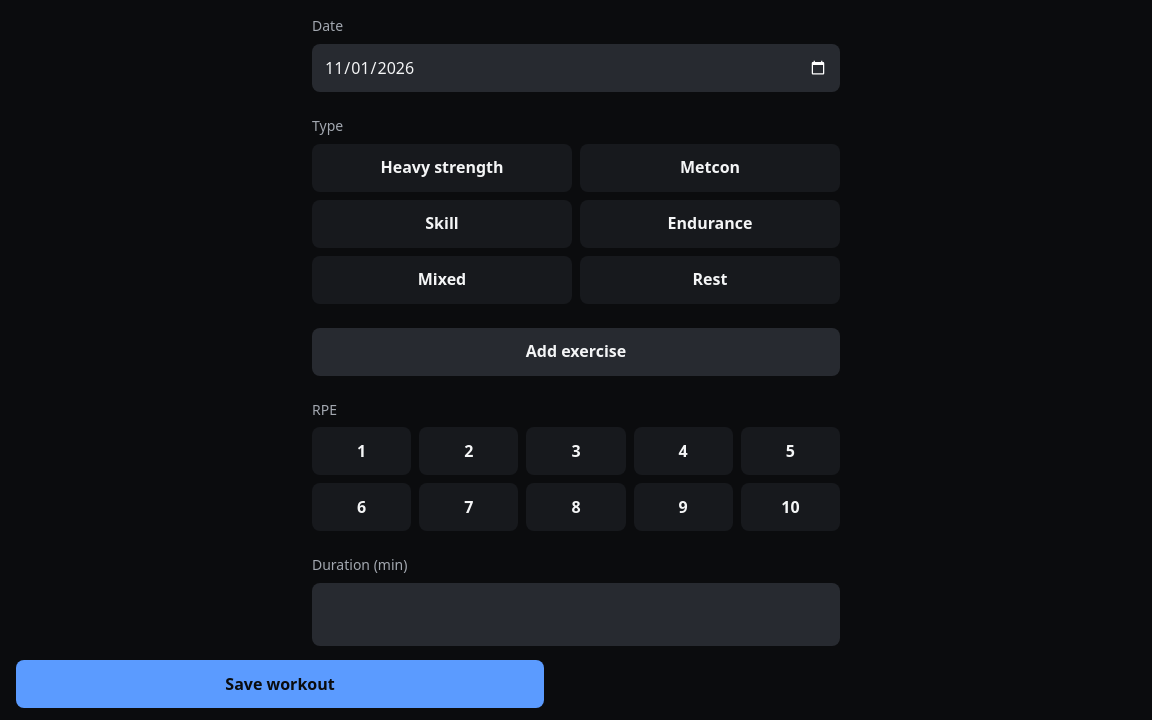
Test case: logging a workout › clears RPE when the selected value is pressed again
Expected: the button "Add exercise" is shown, [312,328,840,376]
Click the button named "RPE 8" at (576, 507), box [526,483,626,531]
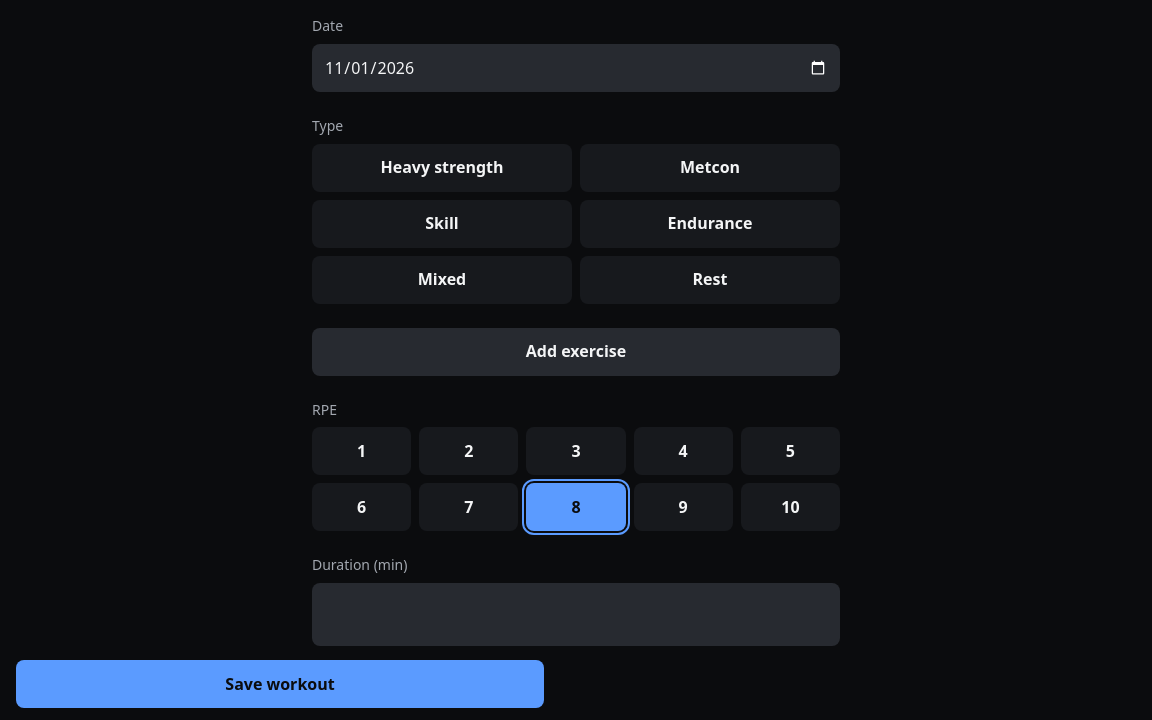
Expected: the button named "RPE 8" is pressed
Click the button named "RPE 8" at (576, 507), box [526,483,626,531]
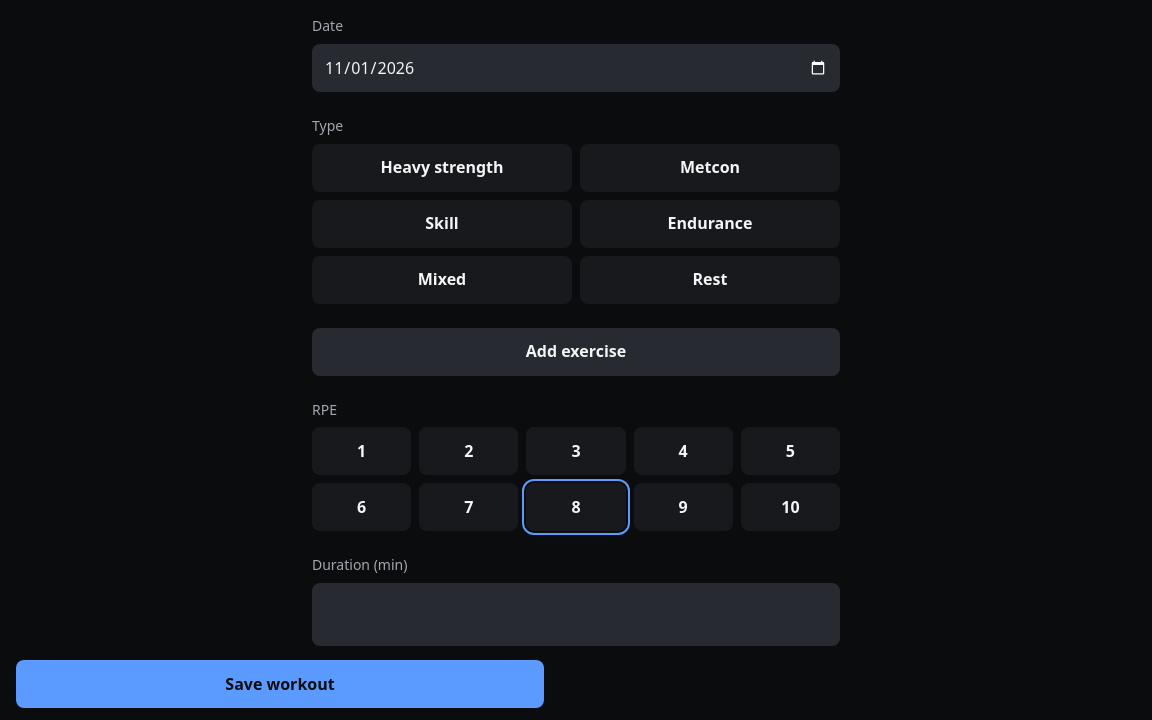
Expected: the button named "RPE 8" is not pressed, [526,483,626,531]
